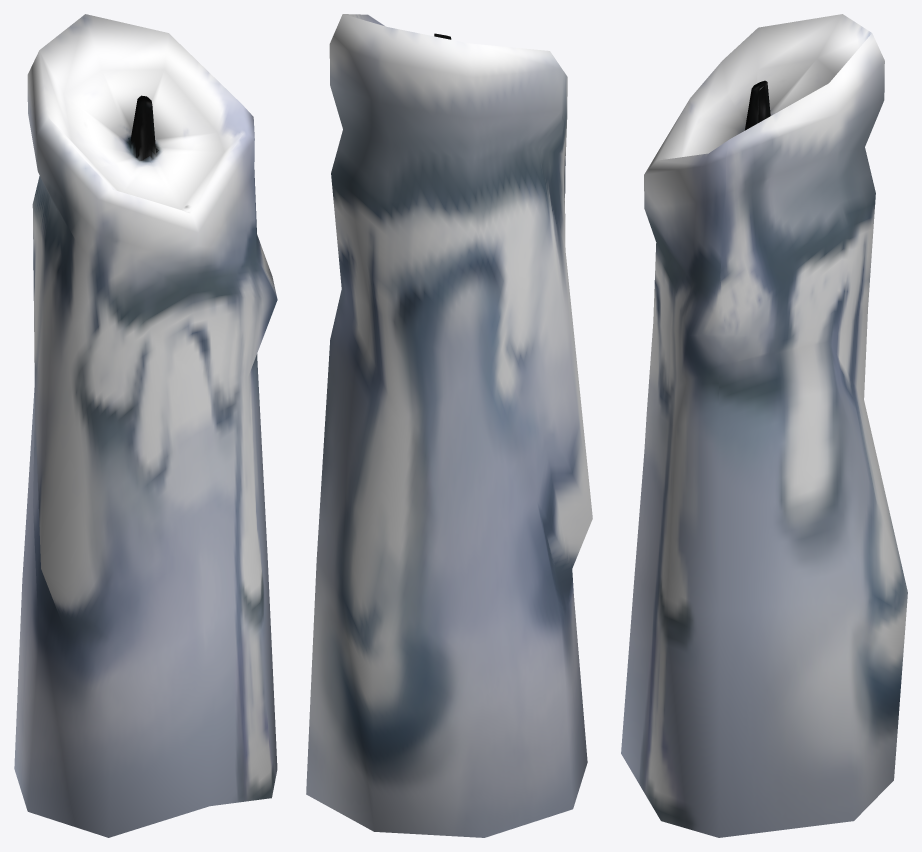
Rendered from Candle.fbx.
3 views of the same model, side by side, from view 1: azimuth 30°, elevation 25°; view 2: azimuth 150°, elevation 25°; view 3: azimuth 270°, elevation 25° (orthographic). The views are drawn at different scales.
Visible parts, largest first — view 1: Candle; view 2: Candle; view 3: Candle.
Boxes of the visible parts, left/top/right/bottom form: Candle: left=14, top=14, right=277, bottom=837; Candle: left=306, top=14, right=592, bottom=837; Candle: left=621, top=14, right=907, bottom=837.
Bounding box in the file's own units: 45.9 × 137 × 47.76.
Materials: 1 (1 with a texture image).
